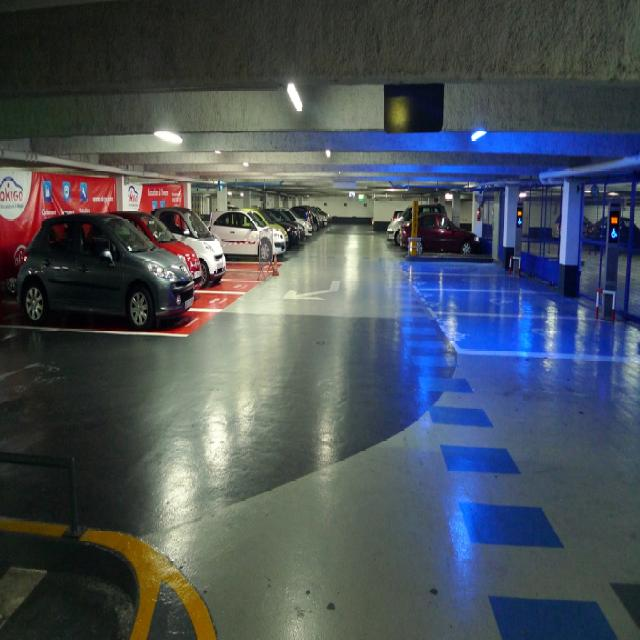car: (2, 208, 196, 338)
